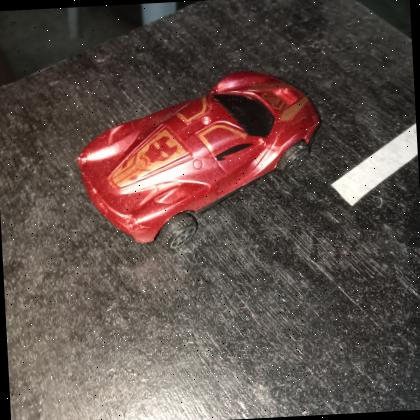Car: (75, 71, 321, 245)
